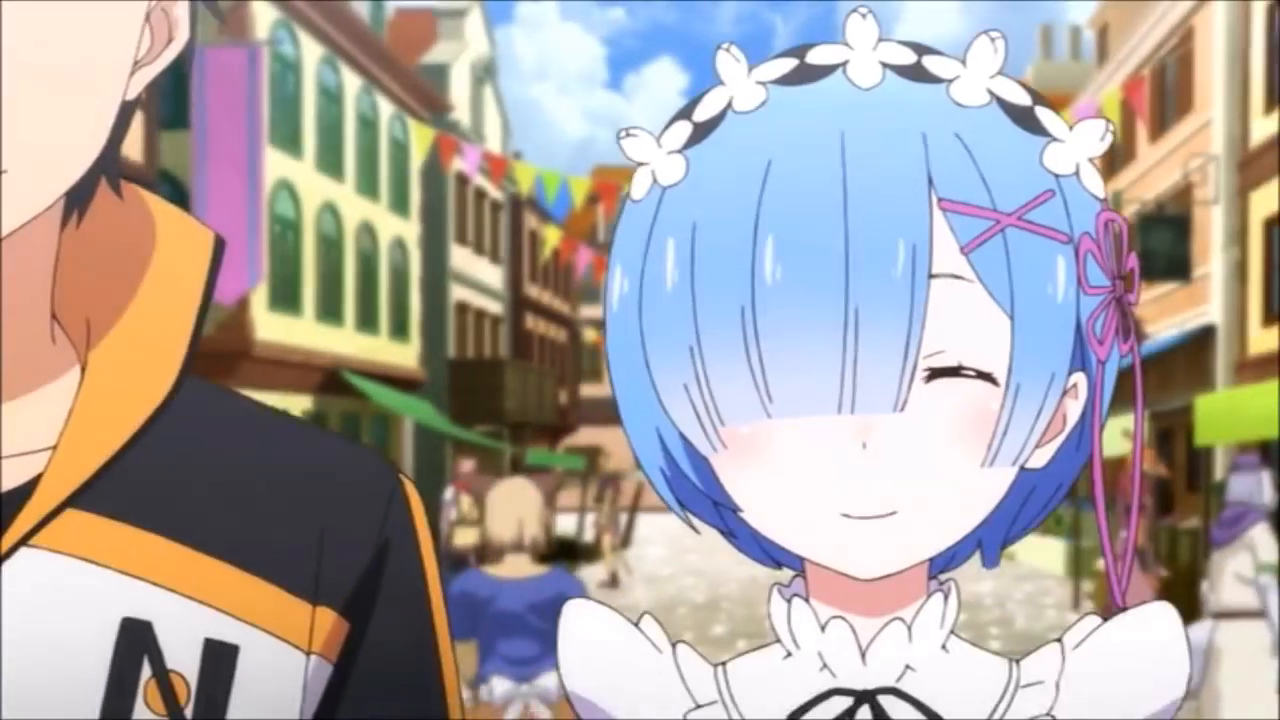REM: (599, 30, 1133, 588)
